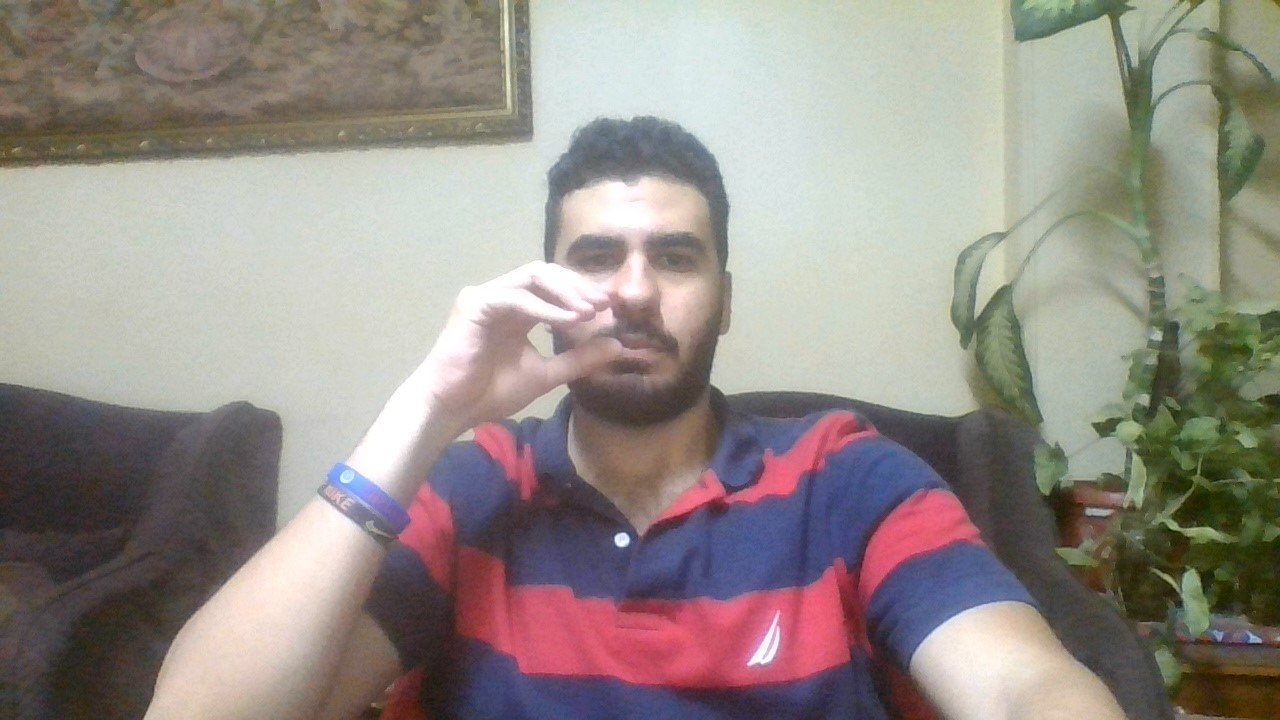drink: (440, 255, 625, 403)
